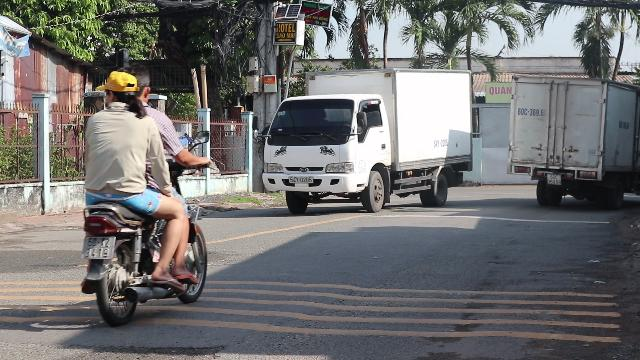licenseplate: (82, 237, 114, 257)
motorcyclist: (74, 67, 212, 325)
nohelmet: (98, 70, 142, 112)
